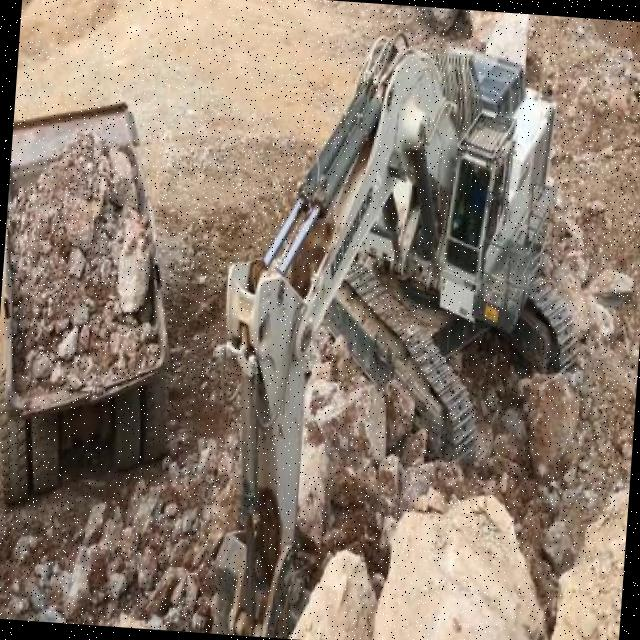Dump Truck: (0, 81, 197, 519)
Excavator: (189, 14, 602, 640)
